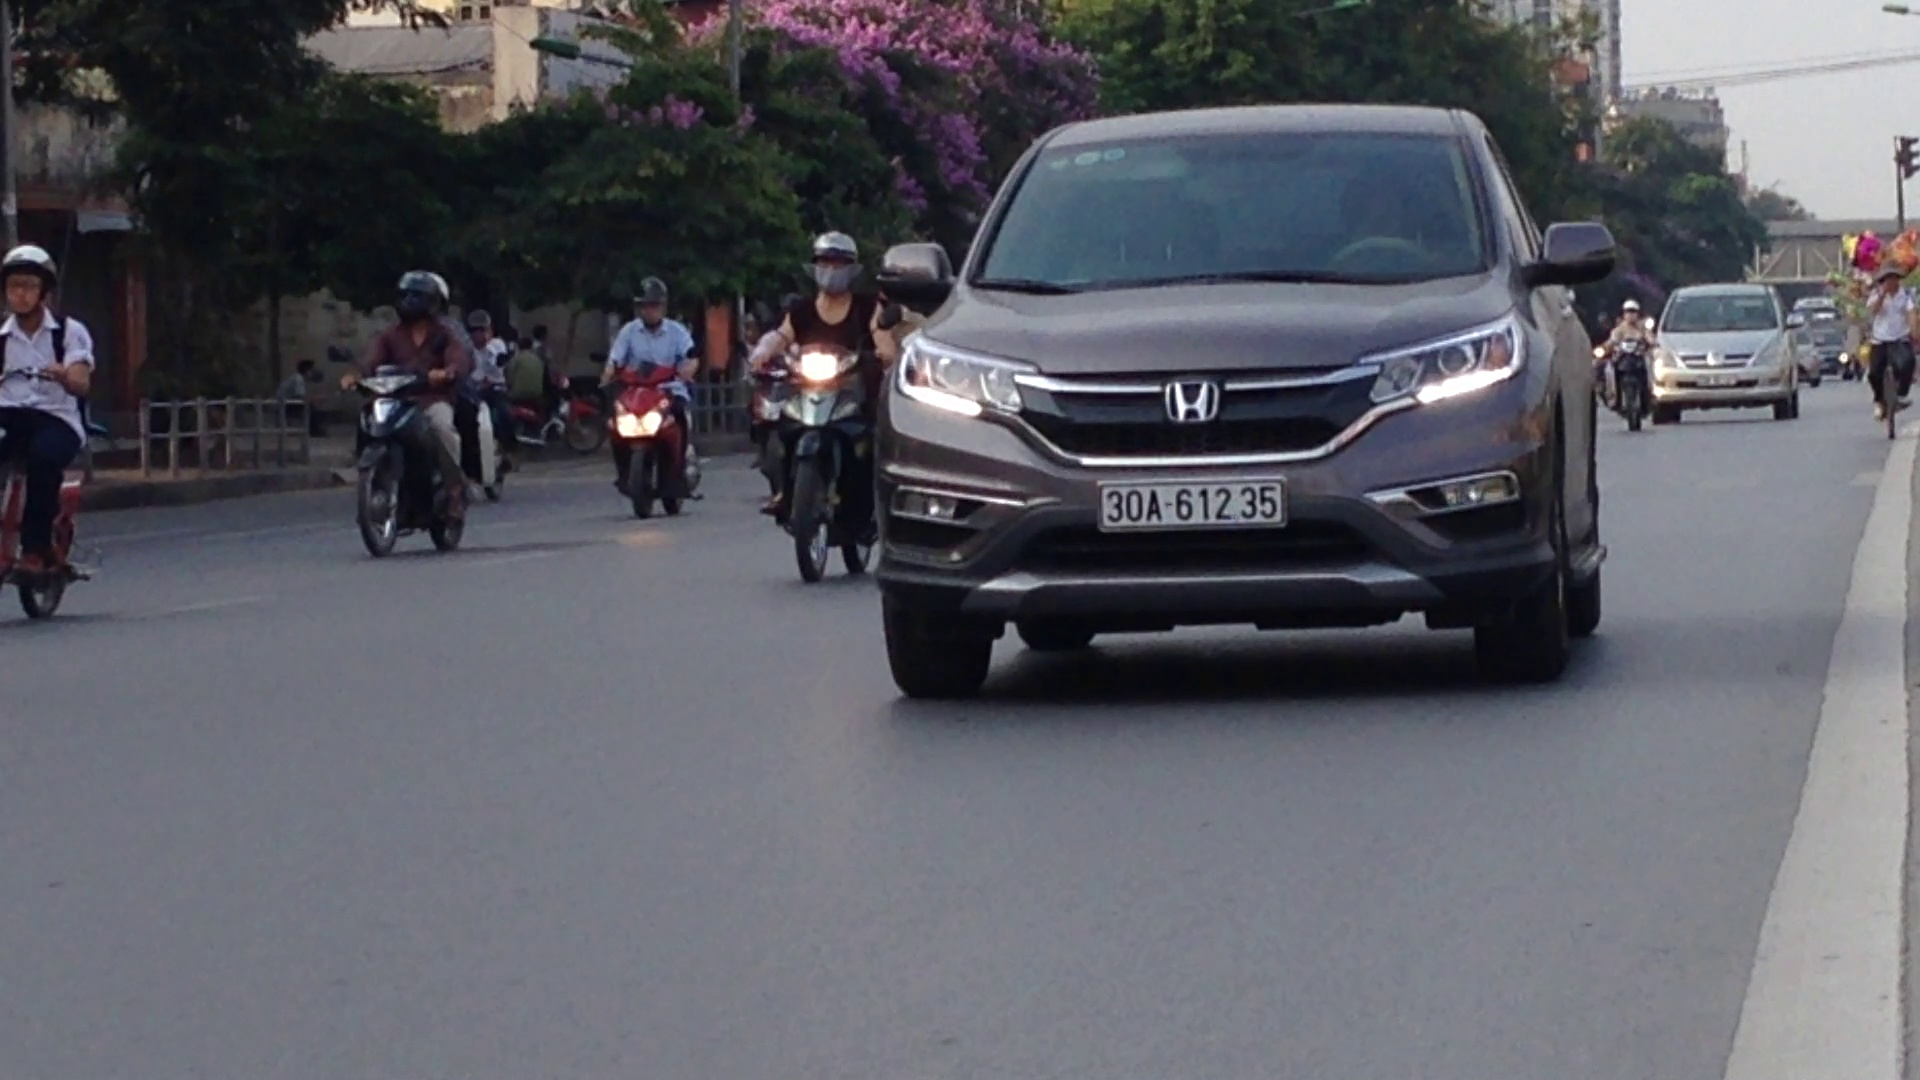vehicle-plate: (1092, 474, 1293, 531)
